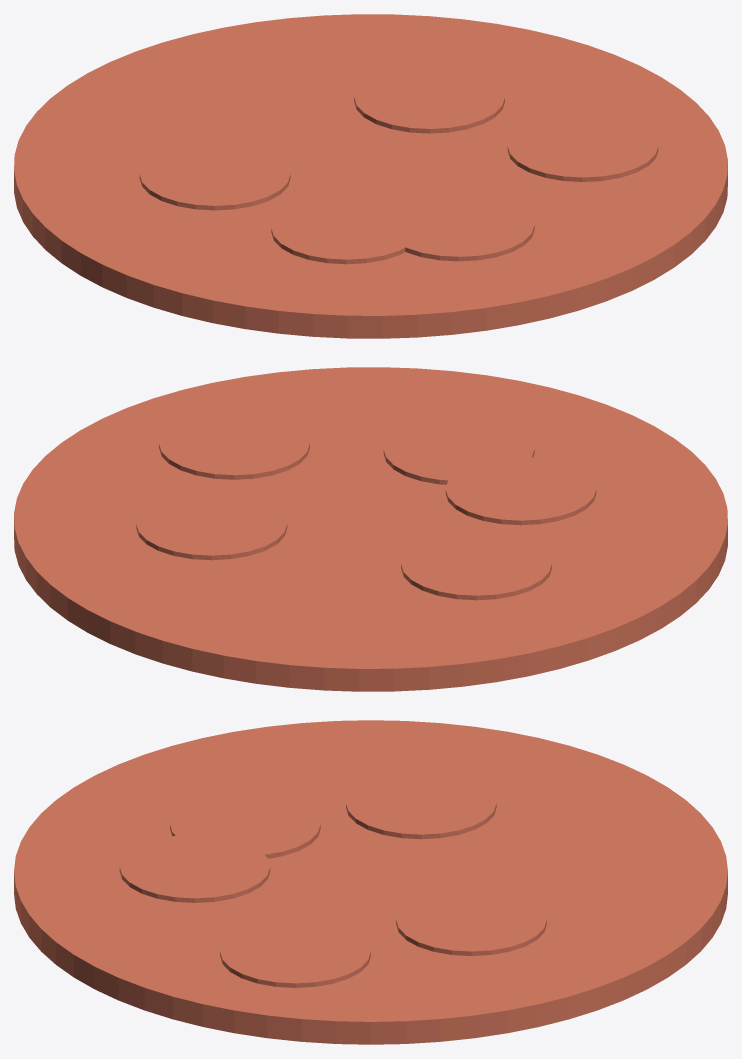
The model's file is layer_sauce.glb.
3 views of the same model, one above another, from view 1: azimuth 30°, elevation 25°; view 2: azimuth 150°, elevation 25°; view 3: azimuth 270°, elevation 25° (orthographic).
Parts seen in each view (by area): view 1: sauce_base, sauce_swirl_1, sauce_swirl_3, sauce_swirl_0, sauce_swirl_2, sauce_swirl_4; view 2: sauce_base, sauce_swirl_0, sauce_swirl_3, sauce_swirl_1, sauce_swirl_2, sauce_swirl_4; view 3: sauce_base, sauce_swirl_0, sauce_swirl_3, sauce_swirl_1, sauce_swirl_4, sauce_swirl_2.
Boxes of the visible parts, bbox=[...] form: sauce_base: bbox=[14, 14, 727, 338]; sauce_swirl_1: bbox=[139, 142, 290, 210]; sauce_swirl_3: bbox=[507, 113, 658, 181]; sauce_swirl_0: bbox=[354, 65, 504, 133]; sauce_swirl_2: bbox=[383, 193, 534, 261]; sauce_swirl_4: bbox=[271, 196, 421, 264]; sauce_base: bbox=[14, 367, 727, 691]; sauce_swirl_0: bbox=[136, 492, 287, 560]; sauce_swirl_3: bbox=[159, 411, 309, 479]; sauce_swirl_1: bbox=[401, 532, 551, 600]; sauce_swirl_2: bbox=[383, 417, 534, 484]; sauce_swirl_4: bbox=[445, 457, 596, 525]; sauce_base: bbox=[14, 720, 727, 1044]; sauce_swirl_0: bbox=[396, 887, 546, 955]; sauce_swirl_3: bbox=[220, 919, 370, 987]; sauce_swirl_1: bbox=[346, 771, 496, 839]; sauce_swirl_4: bbox=[170, 792, 320, 858]; sauce_swirl_2: bbox=[119, 835, 270, 902].
Size of the model in its own units: 0.284 by 0.012 by 0.284.
